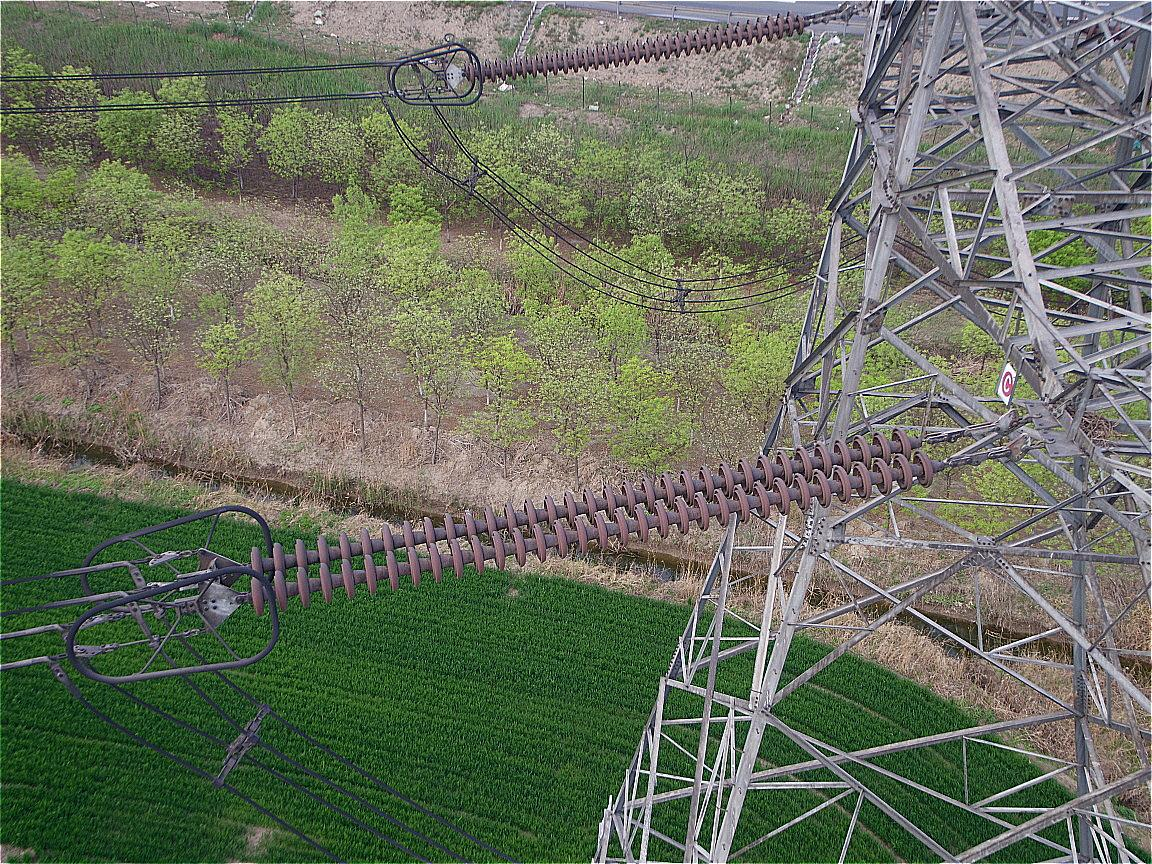insultor1: (250, 425, 932, 611), (466, 10, 807, 87)
